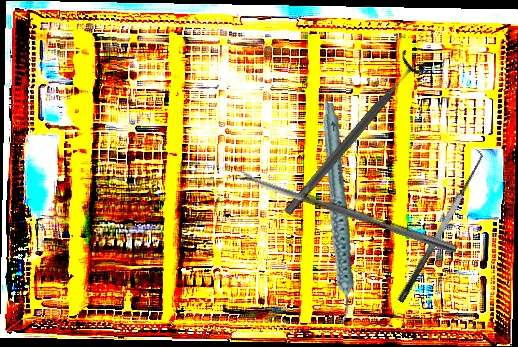Fixation Ring: (274, 48, 429, 224)
Handpiece: (289, 101, 382, 326)
Spatula Surgical: (384, 146, 492, 304)
Surgical Spoon: (234, 168, 459, 254)
